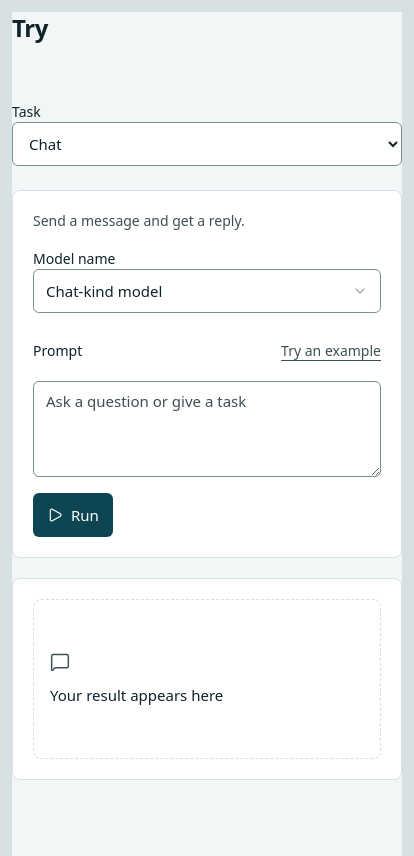
Test: Document search offers the rows the catalog says embed, and no chat-kind model › a model the catalog gives only chat is not offered for embeddings beside one that embeds
Select "Turn text into numbers" in the dropdown labelled "Task" at [207, 144], box [12,122,402,166]
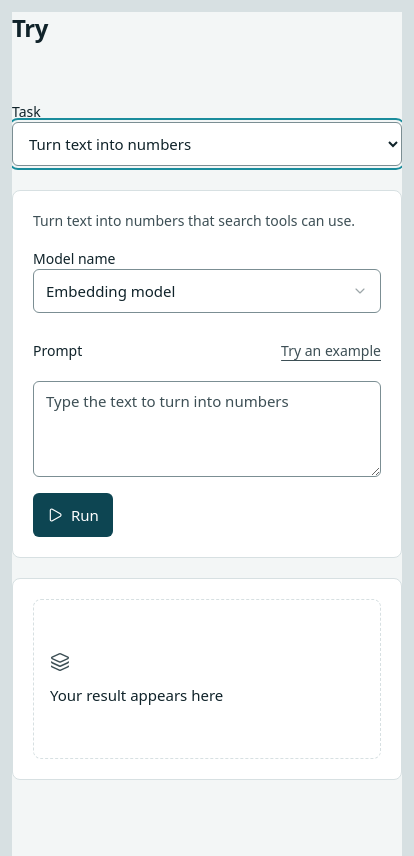
Expected: the dropdown labelled "model" reads "Embedding model", [33,269,381,313]
Expected: the dropdown labelled "model" no longer shows "Chat-kind model", [33,269,381,313]
